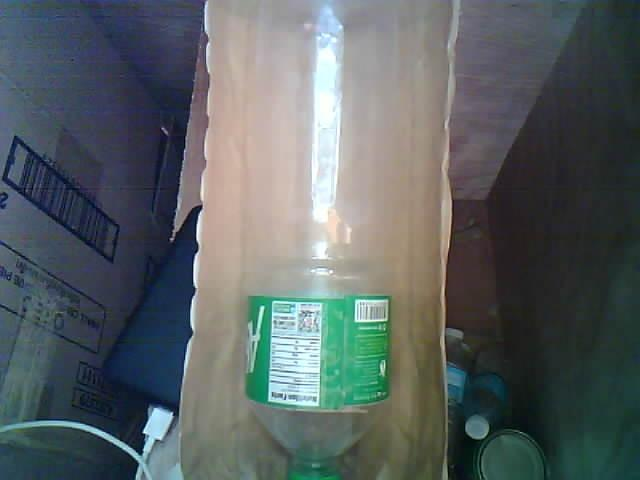large_bottle: (246, 3, 392, 480)
